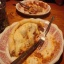pizza: (6, 20, 41, 55)
